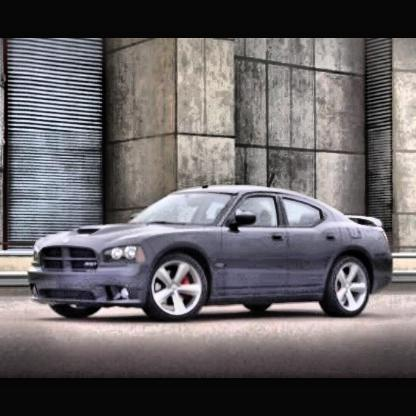Dodge Charger SRT-8 2009: (27, 173, 395, 323)
